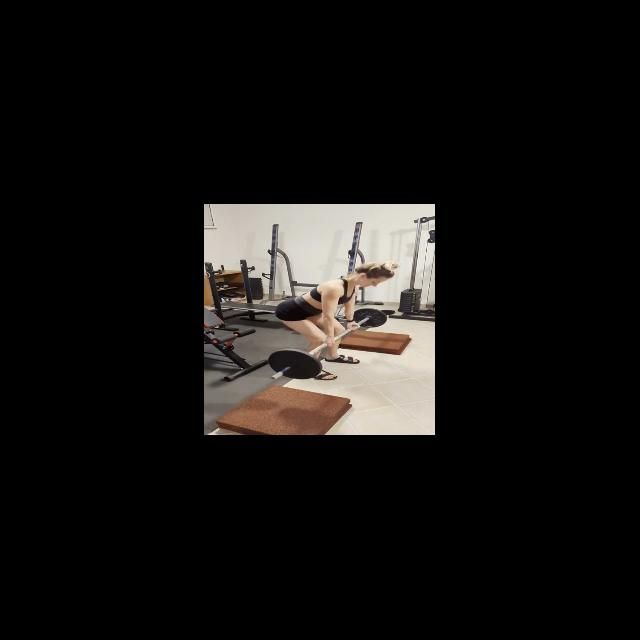barbell: (265, 348, 323, 382)
